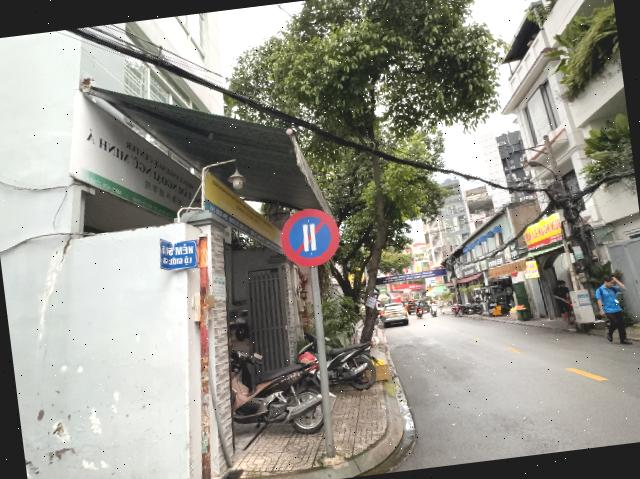cam-do-xe-ngay-chan: (277, 205, 342, 270)
